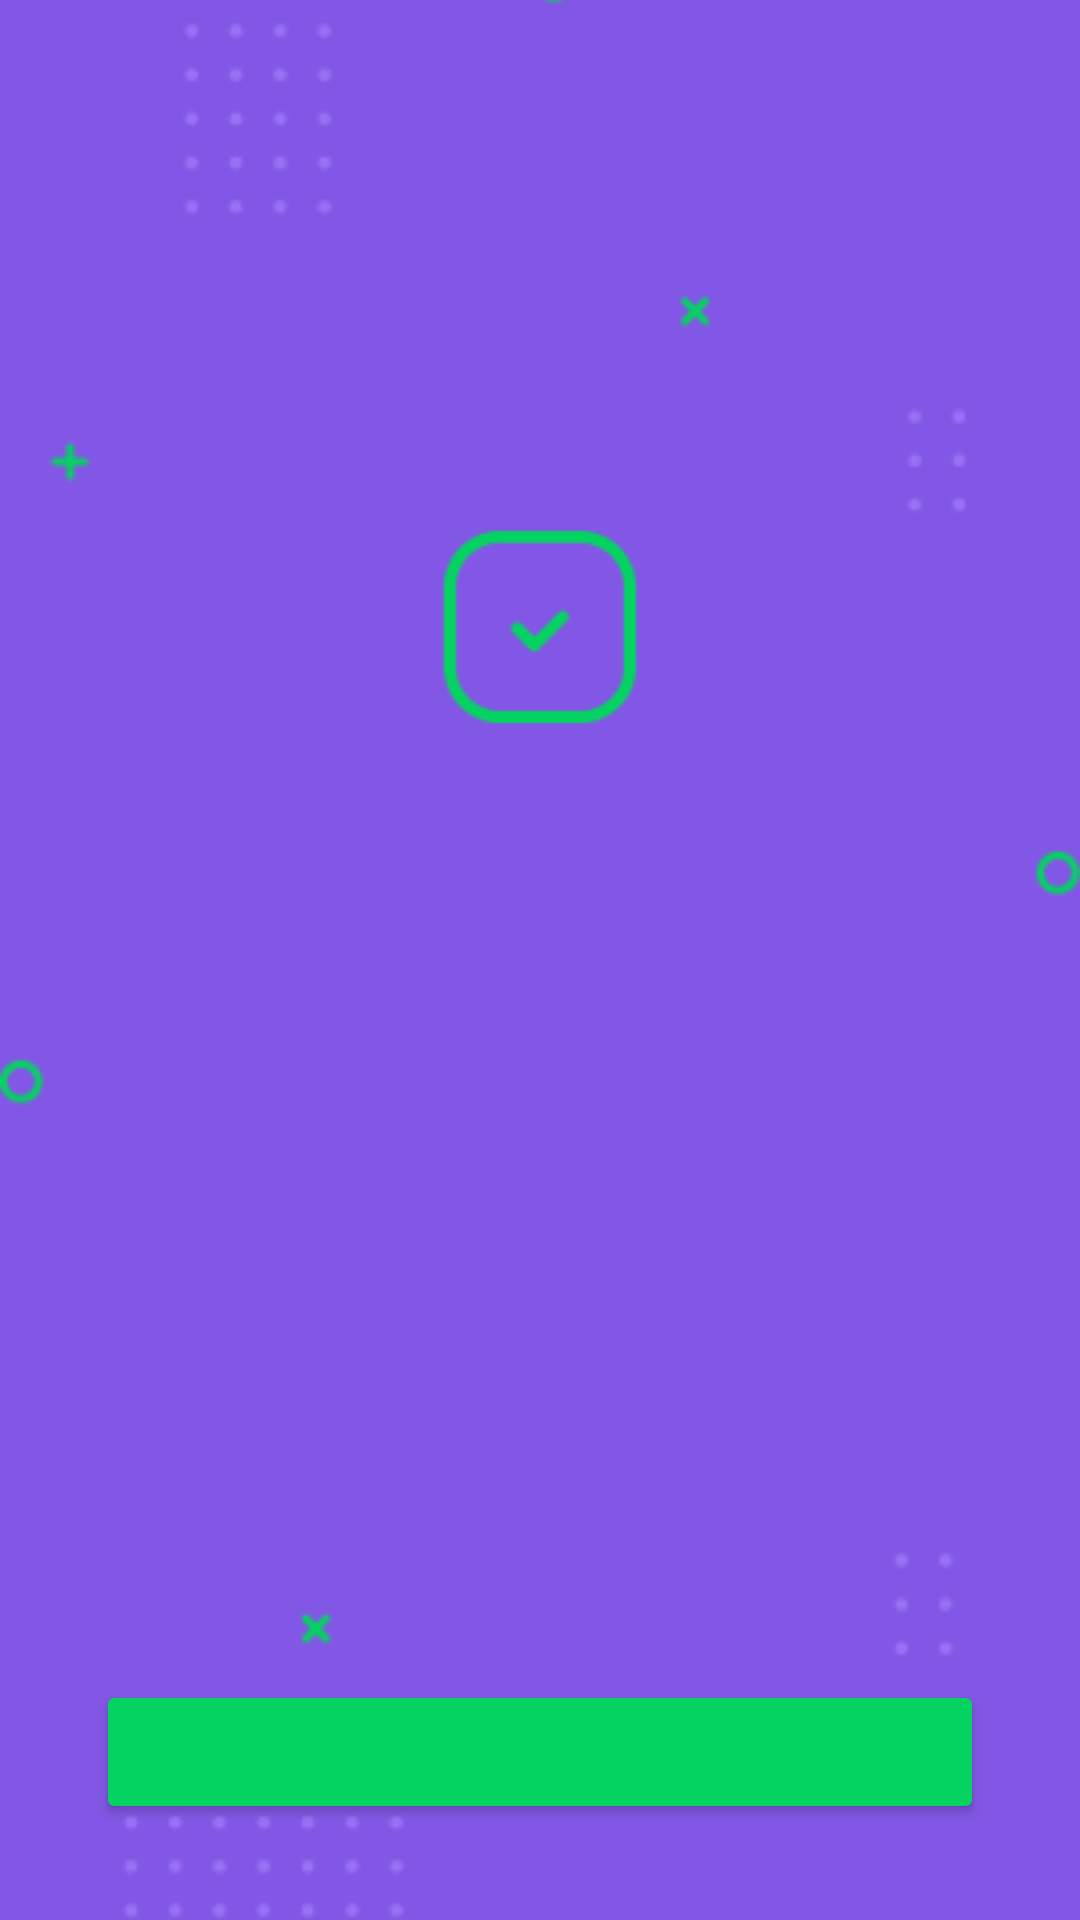

Icon click points for this 1080px x 1920px phone screenshot, format (x,y):
done: (540,627)
